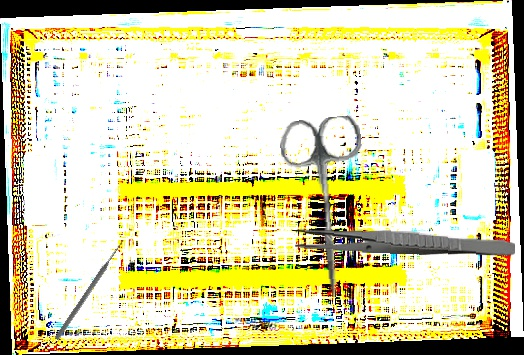Dressing Forceps: (294, 227, 516, 258)
Iris Scissors: (277, 114, 378, 301)
Pusher: (53, 237, 127, 342)
